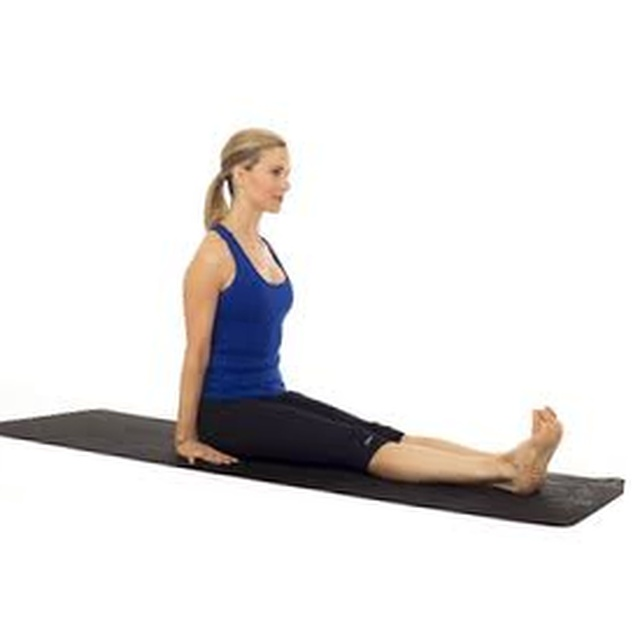Staff_Pose: (174, 126, 562, 494)
